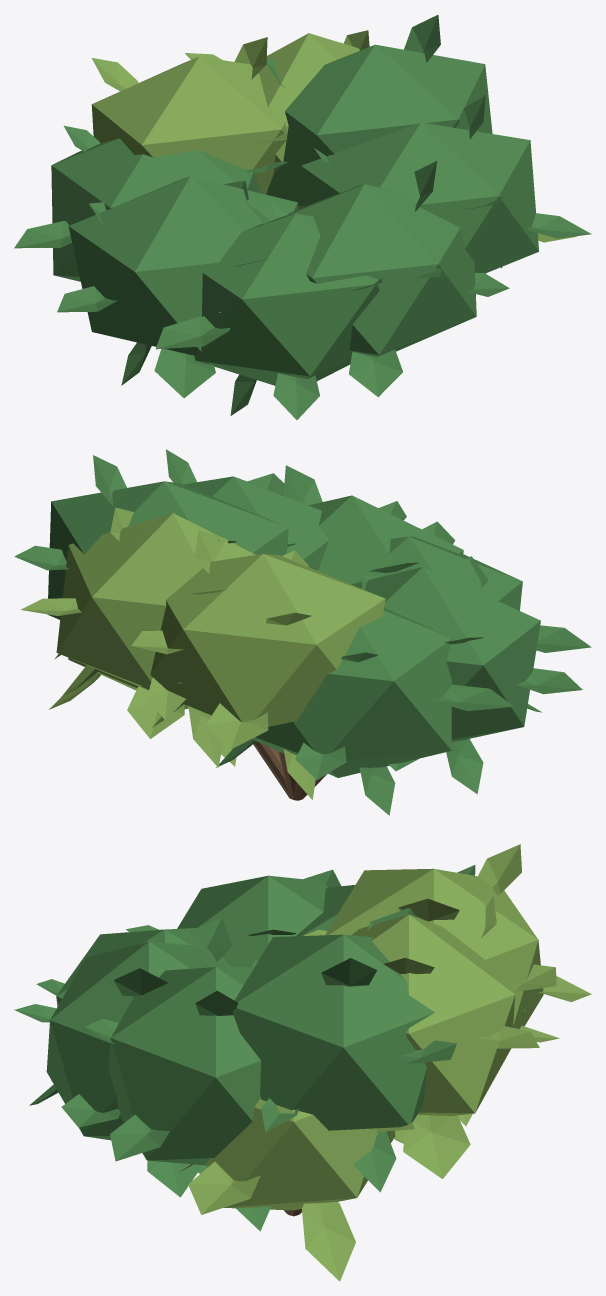
File: bush.glb
The picture shows the model from 3 angles, top to bottom: view 1: azimuth 30°, elevation 25°; view 2: azimuth 150°, elevation 25°; view 3: azimuth 270°, elevation 25°; orthographic projection. The views are drawn at different scales.
Parts seen in each view (by area): view 1: bush; view 2: bush; view 3: bush.
Boxes of the visible parts, <box> form: bush: <box>14,15,591,419</box>; bush: <box>14,449,591,815</box>; bush: <box>14,844,591,1281</box>.
Bounding box in the file's own units: 2.48 × 1.46 × 2.19.
